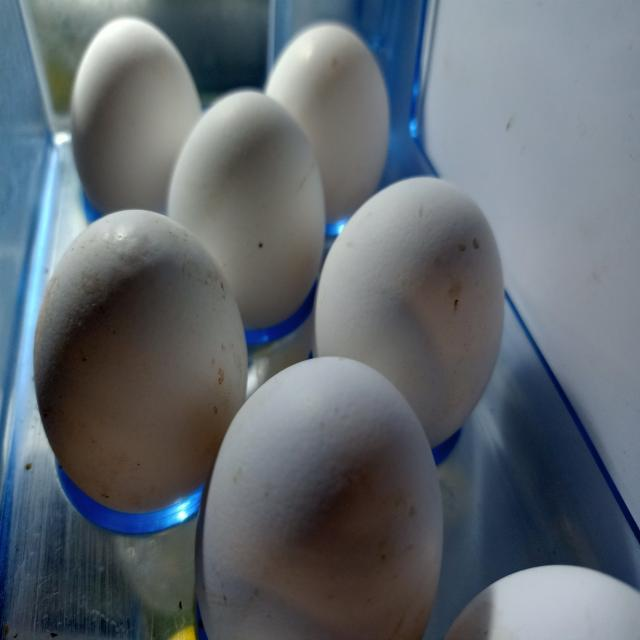Egg: (194, 357, 444, 640), (30, 205, 249, 518), (313, 176, 508, 465), (164, 90, 328, 363), (263, 19, 392, 244), (66, 15, 204, 220)
